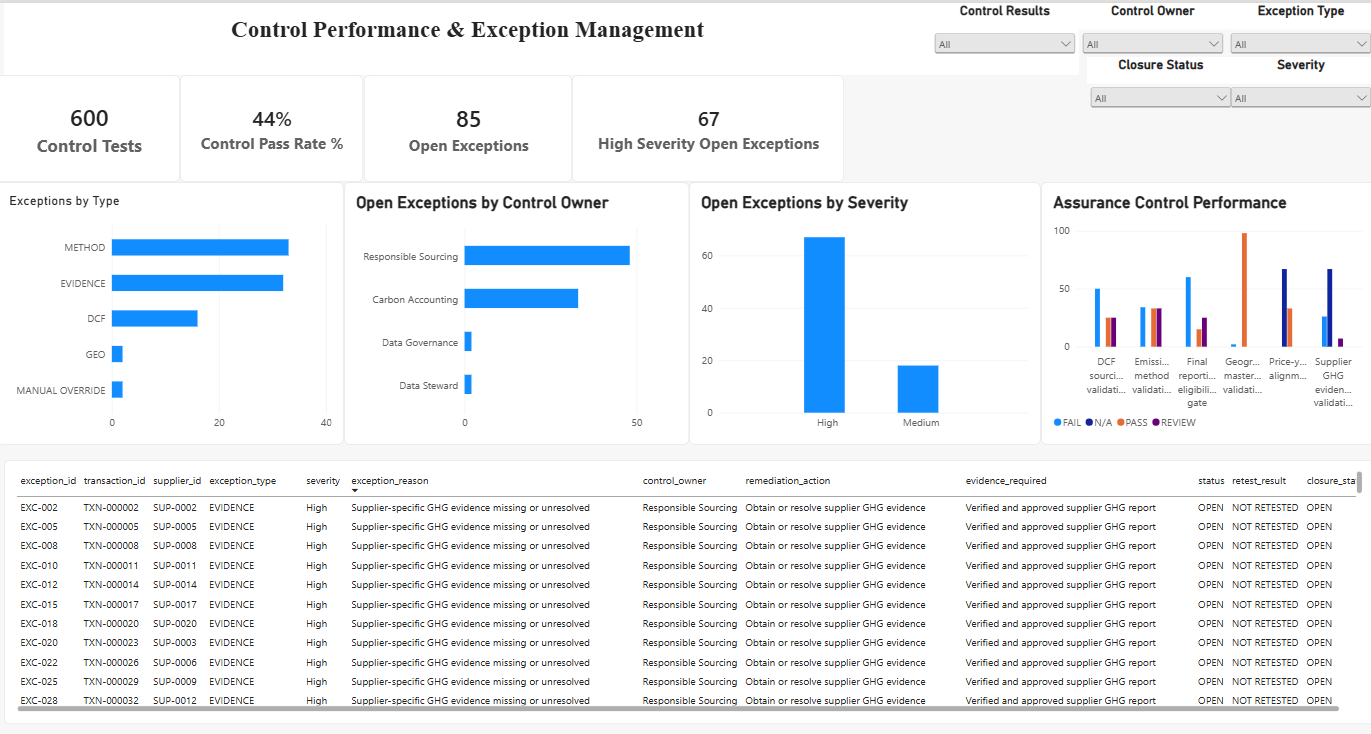

What the dashboard file says about the page in this screenshot:
{"tool":"powerbi","page":{"name":"Control Performance & Exception Management.","canvas":[1920,1080],"ordinal":1},"visuals":[{"type":"textbox","box":[9.5,0,1291.6,100],"z":0},{"type":"cardVisual","fields":{"Data":["assurance_readiness_final.Control Tests"]},"box":[0,100,255.5,149.2],"z":1000},{"type":"cardVisual","fields":{"Data":["assurance_readiness_final.Control Pass Rate %"]},"box":[255.5,100,255.5,149.2],"z":2000},{"type":"cardVisual","fields":{"Data":["fact_reporting_transaction.Open Exceptions"]},"box":[510.9,100,290.4,149.2],"z":3000},{"type":"cardVisual","fields":{"Data":["fact_reporting_transaction.High Severity Open Exceptions"]},"box":[801.3,100,379.2,149.2],"z":4000},{"type":"clusteredBarChart","title":"Open Exceptions by Control Owner","fields":{"Category":["fact_exception.control_owner"],"Y":["fact_reporting_transaction.Open Exceptions"]},"box":[483.5,249.4,480.7,366.4],"z":5000},{"type":"barChart","title":"Exceptions by Type","fields":{"Category":["fact_exception.exception_type"],"Y":["fact_reporting_transaction.Open Exceptions"]},"box":[0,249.4,483.5,366.4],"z":6000},{"type":"tableEx","fields":{"Values":["fact_exception.exception_id","fact_exception.transaction_id","dim_supplier.supplier_id","fact_exception.exception_type","fact_exception.severity","fact_exception.exception_reason","fact_exception.control_owner","fact_exception.remediation_action","fact_exception.evidence_required","fact_exception.status","fact_exception.retest_result","fact_exception.closure_status"]},"box":[9.5,636.3,1910.5,368.1],"z":7000},{"type":"slicer","title":"Exception Type","fields":{"Values":["fact_exception.exception_type"]},"box":[1713.7,0,206.3,100],"z":8000},{"type":"slicer","title":"Severity","fields":{"Values":["fact_exception.severity"]},"box":[1713.7,74.6,206.3,100],"z":9000},{"type":"slicer","title":"Control Owner","fields":{"Values":["fact_exception.control_owner"]},"box":[1507.4,0,206.3,100],"z":10000},{"type":"slicer","title":"Closure Status","fields":{"Values":["fact_exception.closure_status"]},"box":[1518.5,74.6,206.3,100],"z":11000},{"type":"slicer","title":"Control Results ","fields":{"Values":["fact_control_result.control_result"]},"box":[1301.2,0,206.3,100],"z":12000},{"type":"clusteredColumnChart","title":"Open Exceptions by Severity","fields":{"Category":["fact_exception.severity"],"Y":["fact_reporting_transaction.Open Exceptions"]},"box":[964.2,249.4,490.4,366.4],"z":13000},{"type":"clusteredColumnChart","title":"Assurance Control Performance","fields":{"Category":["dim_control.control_name"],"Series":["dim_control_result.control_result"],"Y":["assurance_readiness_final.Control Tests"]},"box":[1454.6,249.4,465.4,366.4],"z":14000}]}

Visuals, with their boxes on the page's 1920x1080 design canvas (x1, y1, x2, y2). These are canvas units, not pixel positions in the 1371x734 screenshot, which may show the page scaled, cropped or inside an application window:
textbox: x1=10, y1=0, x2=1301, y2=100
cardVisual - assurance_readiness_final.Control Tests: x1=0, y1=100, x2=256, y2=249
cardVisual - assurance_readiness_final.Control Pass Rate %: x1=256, y1=100, x2=511, y2=249
cardVisual - fact_reporting_transaction.Open Exceptions: x1=511, y1=100, x2=801, y2=249
cardVisual - fact_reporting_transaction.High Severity Open Exceptions: x1=801, y1=100, x2=1180, y2=249
"Open Exceptions by Control Owner" clusteredBarChart: x1=484, y1=249, x2=964, y2=616
"Exceptions by Type" barChart: x1=0, y1=249, x2=484, y2=616
tableEx - fact_exception.exception_id x fact_exception.transaction_id: x1=10, y1=636, x2=1920, y2=1004
"Exception Type" slicer: x1=1714, y1=0, x2=1920, y2=100
"Severity" slicer: x1=1714, y1=75, x2=1920, y2=175
"Control Owner" slicer: x1=1507, y1=0, x2=1714, y2=100
"Closure Status" slicer: x1=1518, y1=75, x2=1725, y2=175
"Control Results " slicer: x1=1301, y1=0, x2=1508, y2=100
"Open Exceptions by Severity" clusteredColumnChart: x1=964, y1=249, x2=1455, y2=616
"Assurance Control Performance" clusteredColumnChart: x1=1455, y1=249, x2=1920, y2=616
